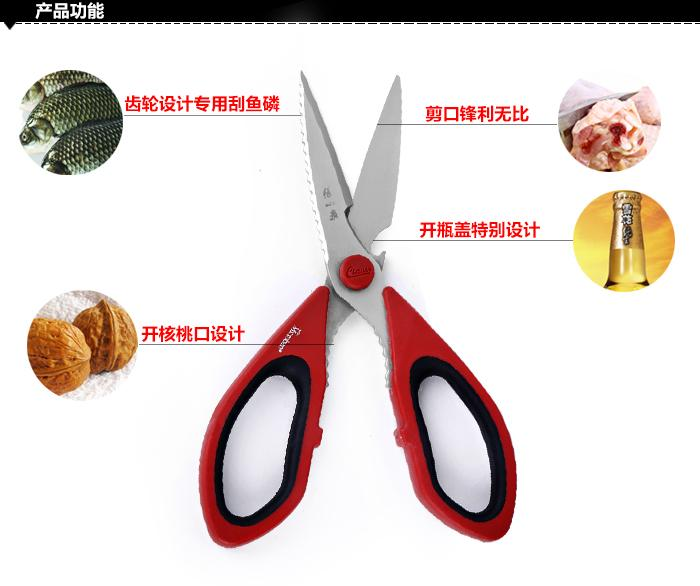scissor: (150, 61, 539, 538)
